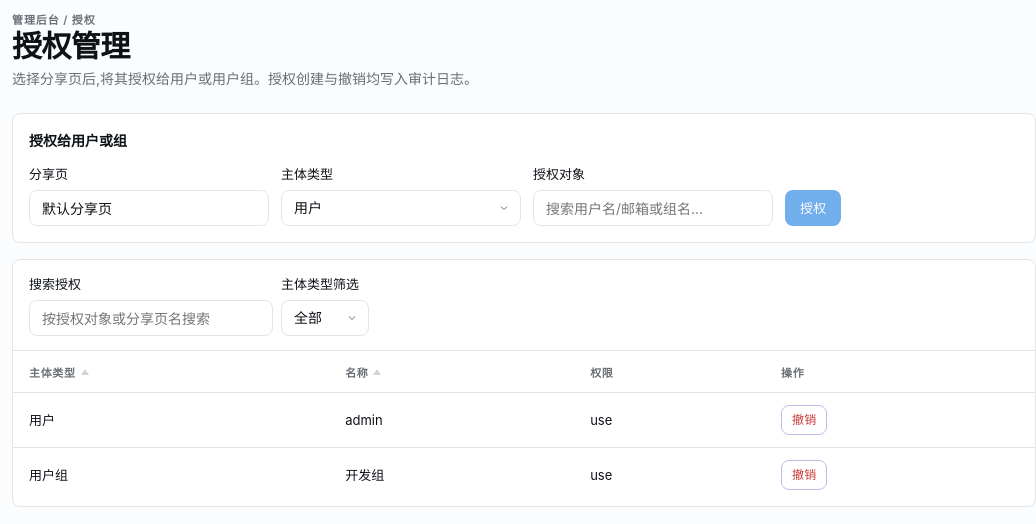
Scenario: GrantsAdminPage › 撤销授权 — 点击"撤销"调 DELETE /share-pages/:id/grants/:type/:id
# 等待授权列表加载
Click the button "撤销" in the row of "admin". click: (804, 420)
box: [781,405,827,435]
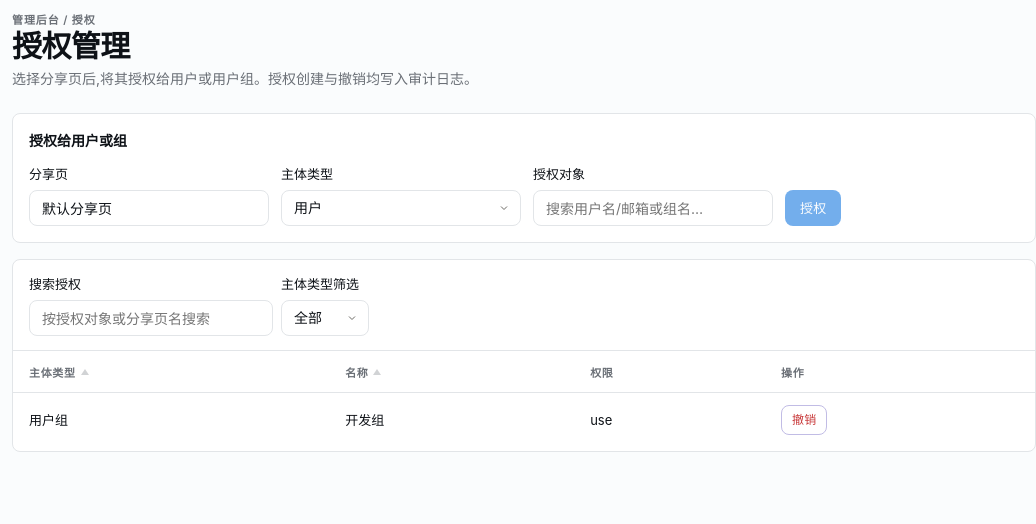
Expected: the row with test id "grant-row-user-u_admin" is gone
